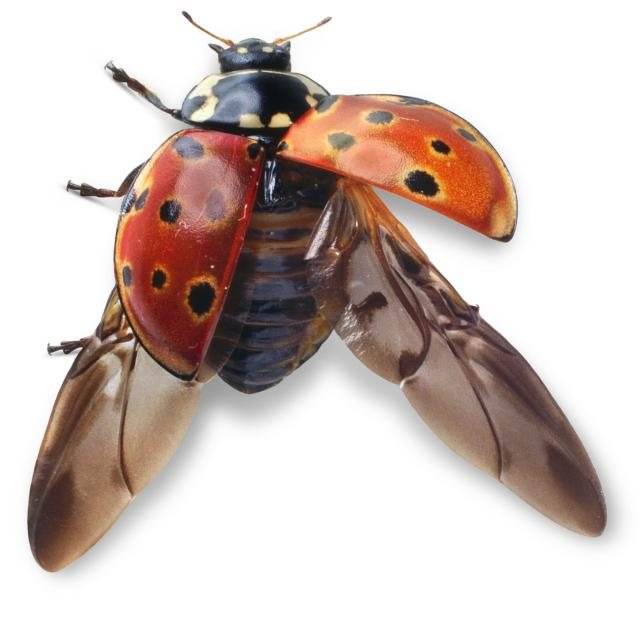ladybug: (28, 36, 605, 570)
